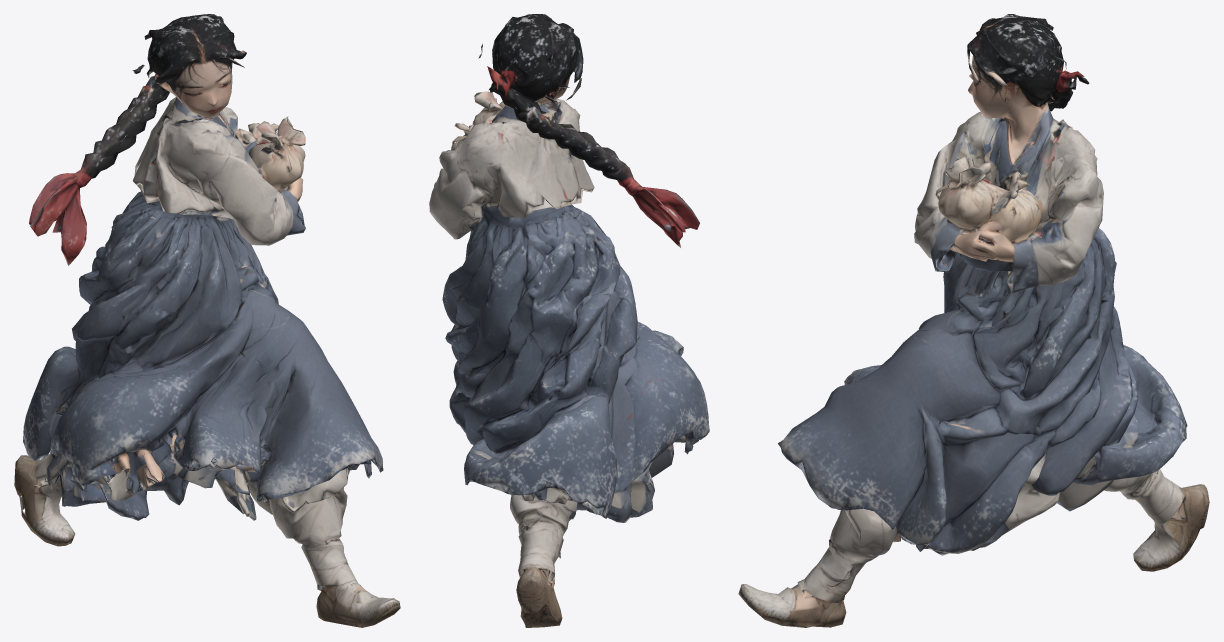
File: PR_FrozenCitizen_05.fbx
3 renders of one model, left to right at view 1: azimuth 30°, elevation 25°; view 2: azimuth 150°, elevation 25°; view 3: azimuth 270°, elevation 25°, orthographic. The views are drawn at different scales.
Parts seen in each view (by area): view 1: texture_mapping; view 2: texture_mapping; view 3: texture_mapping.
Boxes of the visible parts, <box> form: texture_mapping: <box>14,14,400,627</box>; texture_mapping: <box>429,14,709,627</box>; texture_mapping: <box>738,14,1209,627</box>.
Bounding box in the file's own units: 0.5371 × 0.73 × 0.9965.
1 material, 1 textured.
